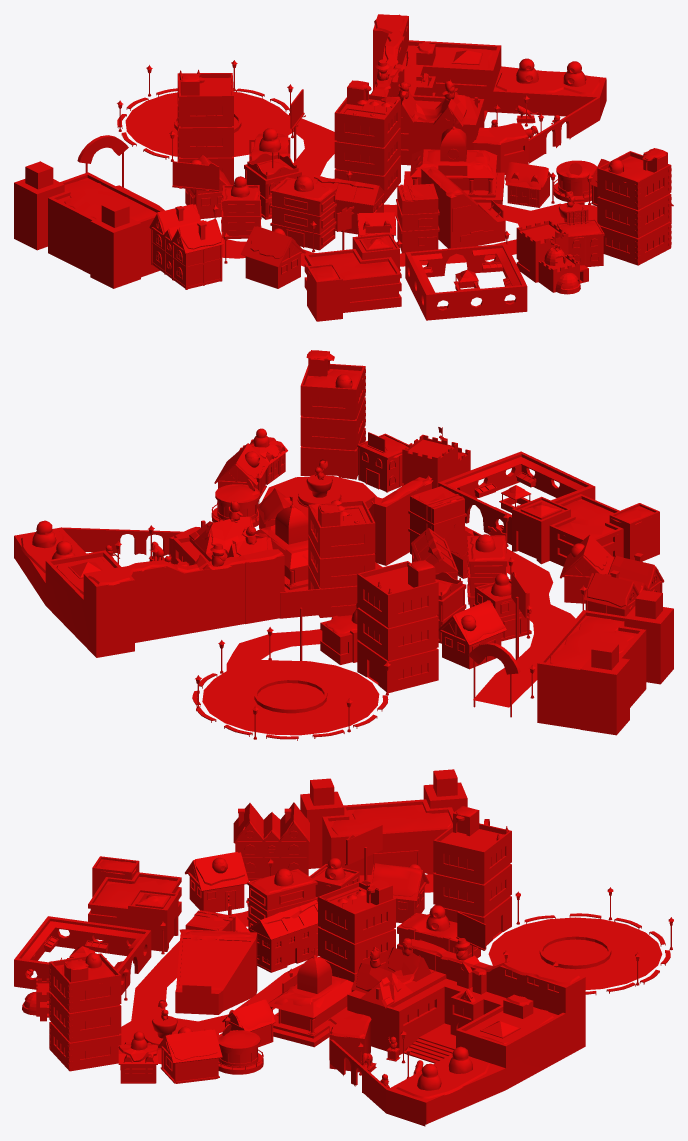
The model's file is NeighBorhood_PenguPlaza_02.glb.
The picture shows the model from 3 angles, top to bottom: view 1: azimuth 30°, elevation 25°; view 2: azimuth 150°, elevation 25°; view 3: azimuth 270°, elevation 25°; orthographic projection. The views are drawn at different scales.
Parts seen in each view (by area): view 1: pCube201, pCube153, pCylinder3, pCube202, pCube150, pCube61, polySurface218, pCube144, polySurface209, pCube60, pCube325, pCube85 (+23 smaller); view 2: pCube201, pCylinder3, pCube153, pCube60, pCube202, pCube61, pCube144, pCube150, polySurface218, polySurface209, polySurface213, polySurface212 (+25 smaller); view 3: pCube201, pCylinder3, pCube153, pCube60, pCube202, polySurface218, pCube55, pCube61, pCube150, pCube144, polySurface209, polySurface213 (+23 smaller).
Boxes of the visible parts, left/top/right/bottom form: pCube201: left=373, top=14, right=606, bottom=174; pCube153: left=14, top=161, right=163, bottom=288; pCylinder3: left=116, top=92, right=597, bottom=266; pCube202: left=597, top=148, right=671, bottom=265; pCube150: left=405, top=243, right=527, bottom=320; pCube61: left=334, top=80, right=400, bottom=202; polySurface218: left=371, top=14, right=600, bottom=144; pCube144: left=304, top=233, right=401, bottom=321; polySurface209: left=308, top=148, right=666, bottom=280; pCube60: left=177, top=73, right=233, bottom=185; pCube325: left=149, top=204, right=223, bottom=289; pCube85: left=403, top=126, right=504, bottom=204; pCube201: left=14, top=520, right=284, bottom=657; pCylinder3: left=202, top=475, right=575, bottom=735; pCube153: left=537, top=590, right=673, bottom=735; pCube60: left=357, top=560, right=438, bottom=692; pCube202: left=300, top=350, right=365, bottom=479; pCube61: left=308, top=500, right=375, bottom=617; pCube144: left=512, top=494, right=659, bottom=566; pCube150: left=438, top=451, right=595, bottom=544; polySurface218: left=21, top=516, right=282, bottom=594; polySurface209: left=257, top=350, right=652, bottom=560; polySurface213: left=325, top=560, right=633, bottom=667; polySurface212: left=412, top=488, right=658, bottom=607; pCube201: left=329, top=939, right=585, bottom=1124; pCylinder3: left=120, top=874, right=662, bottom=1064; pCube153: left=300, top=769, right=467, bottom=875; pCube60: left=433, top=809, right=511, bottom=945; pCube202: left=49, top=953, right=121, bottom=1071; polySurface218: left=328, top=939, right=579, bottom=1098; pCube55: left=175, top=929, right=257, bottom=1014; pCube61: left=318, top=881, right=395, bottom=982; pCube150: left=14, top=916, right=151, bottom=994; pCube144: left=88, top=856, right=181, bottom=951; polySurface209: left=61, top=860, right=341, bottom=1029; polySurface213: left=331, top=806, right=476, bottom=940.
Bounding box in the file's own units: 67.55 × 14.46 × 63.69.
